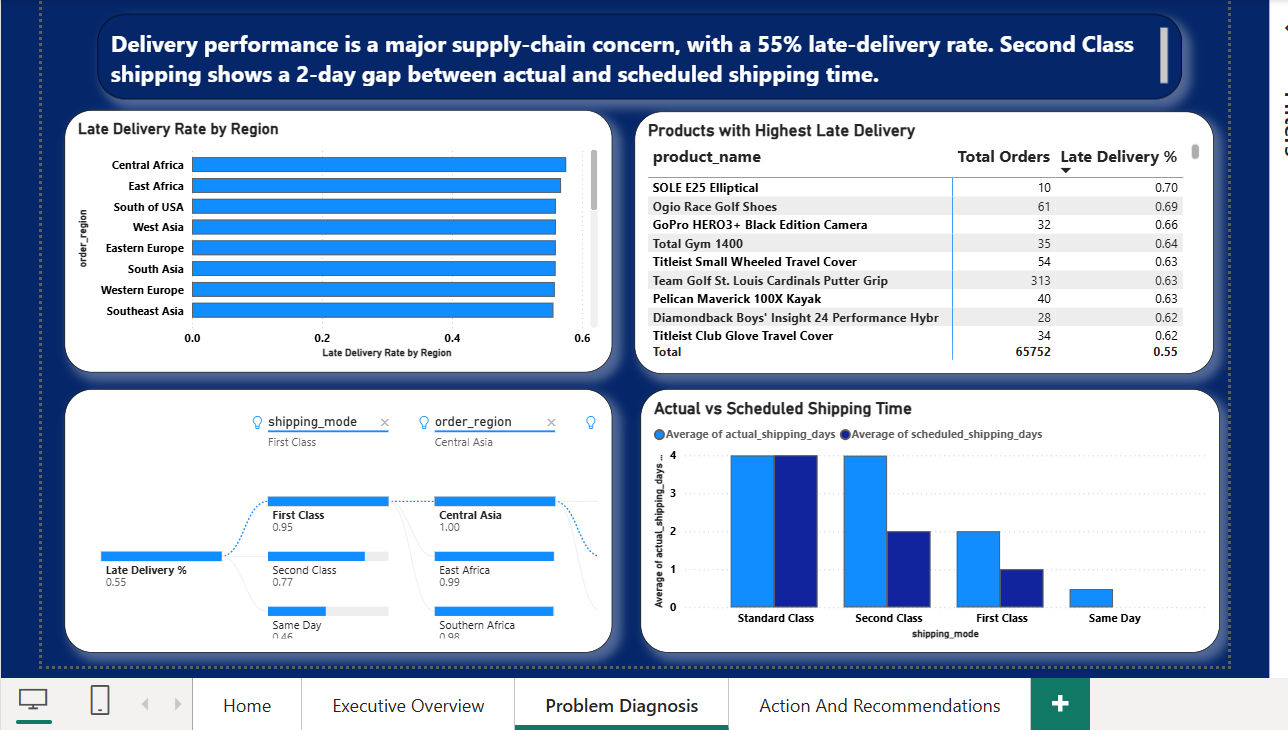

What the dashboard file says about the page in this screenshot:
{"tool":"powerbi","page":{"name":"Problem Diagnosis","canvas":[1280,720],"ordinal":2},"visuals":[{"type":"pivotTable","title":"Products with Highest Late Delivery","fields":{"Rows":["supply_chain fact_supply_chain.product_name"],"Values":["All measures.Total Orders","All measures.Late Delivery %"]},"box":[508.4,152.2,516.5,265.6],"z":0},{"type":"clusteredColumnChart","title":"Actual vs Scheduled Shipping Time","fields":{"Category":["supply_chain dim_shipping.shipping_mode"],"Y":["Avg(supply_chain fact_supply_chain.actual_shipping_days)","Avg(supply_chain fact_supply_chain.scheduled_shipping_days)"]},"box":[513.3,430.7,511.7,275.3],"z":1000},{"type":"clusteredBarChart","title":"Late Delivery delay by Region","fields":{"Category":["supply_chain fact_supply_chain.order_region"],"Y":["All measures.Average Delivery Delay"]},"box":[24.3,152.2,463.1,254.2],"z":2000},{"type":"decompositionTreeVisual","fields":{"Analyze":["All measures.Late Delivery %"],"ExplainBy":["supply_chain dim_shipping.shipping_mode","supply_chain fact_supply_chain.order_region","supply_chain fact_supply_chain.product_name"]},"box":[24.3,430.7,463.1,275.3],"z":3000},{"type":"textbox","box":[29.1,6.5,995.8,140.9],"z":4000},{"type":"cardVisual","fields":{"Data":["All measures.Late Delivery %"]},"box":[42.1,21,197.5,108.5],"z":5000},{"type":"cardVisual","fields":{"Data":["All measures.Average Delivery Delay"]},"box":[259.1,17.8,268.8,111.7],"z":6000},{"type":"cardVisual","fields":{"Data":["All measures.On-Time Delivery %"]},"box":[547.3,17.8,236.4,111.7],"z":7000},{"type":"cardVisual","fields":{"Data":["All measures.Profit Margin %"]},"box":[801.5,17.8,210.5,111.7],"z":8000},{"type":"slicer","fields":{"Values":["supply_chain fact_supply_chain.shipping_mode"]},"box":[1047.6,6.5,215.4,179.7],"z":9000},{"type":"slicer","fields":{"Values":["supply_chain dim_product.category_name"]},"box":[1047.6,442,215.4,252.6],"z":10000},{"type":"slicer","fields":{"Values":["supply_chain fact_supply_chain.delivery_status"]},"box":[1047.6,202.4,215.4,228.3],"z":11000},{"type":"image","box":[686.6,21,97.2,59.9],"z":11001},{"type":"image","box":[903.5,17.8,121.4,68],"z":11002},{"type":"image","box":[414.5,21,132.8,64.8],"z":11003},{"type":"image","box":[163.5,21,63.1,64.8],"z":11004}]}

Visuals, with their boxes on the page's 1280x720 design canvas (x1, y1, x2, y2). These are canvas units, not pixel positions in the 1288x730 screenshot, which may show the page scaled, cropped or inside an application window:
"Products with Highest Late Delivery" pivotTable: 508:152:1025:418
"Actual vs Scheduled Shipping Time" clusteredColumnChart: 513:431:1025:706
"Late Delivery delay by Region" clusteredBarChart: 24:152:487:406
decompositionTreeVisual - All measures.Late Delivery % x supply_chain dim_shipping.shipping_mode: 24:431:487:706
textbox: 29:6:1025:147
cardVisual - All measures.Late Delivery %: 42:21:240:130
cardVisual - All measures.Average Delivery Delay: 259:18:528:130
cardVisual - All measures.On-Time Delivery %: 547:18:784:130
cardVisual - All measures.Profit Margin %: 802:18:1012:130
slicer - supply_chain fact_supply_chain.shipping_mode: 1048:6:1263:186
slicer - supply_chain dim_product.category_name: 1048:442:1263:695
slicer - supply_chain fact_supply_chain.delivery_status: 1048:202:1263:431
image: 687:21:784:81
image: 904:18:1025:86
image: 414:21:547:86
image: 164:21:227:86
